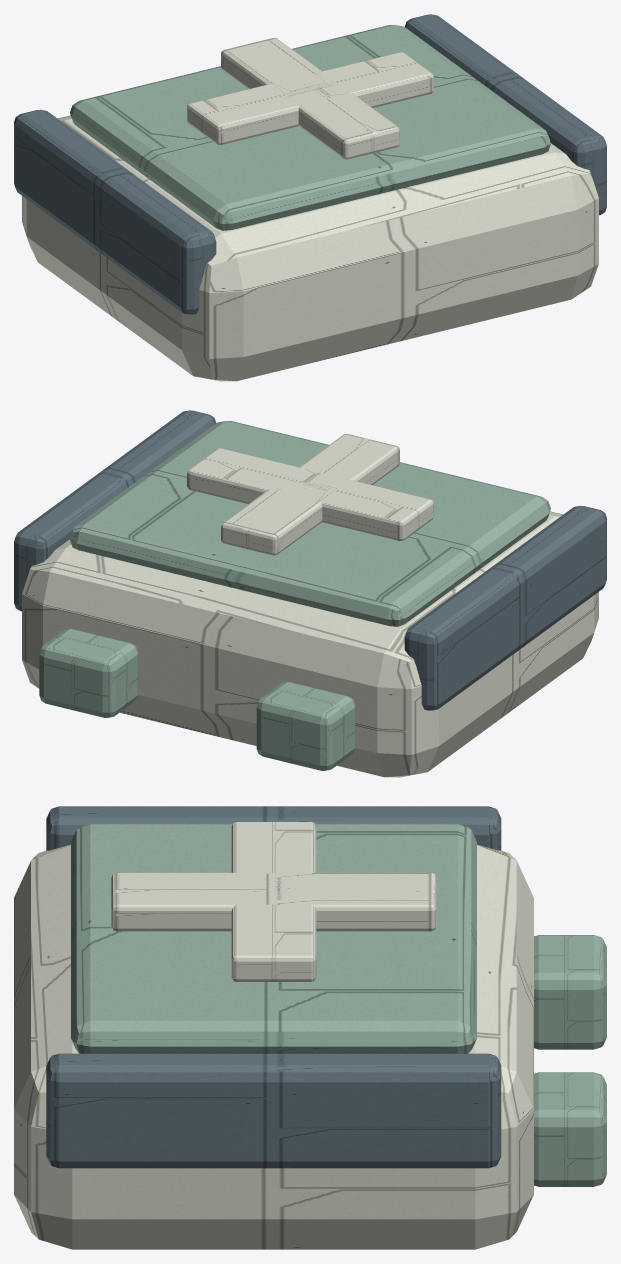
File: repair-high.glb
The picture shows the model from 3 angles, top to bottom: view 1: azimuth 30°, elevation 25°; view 2: azimuth 150°, elevation 25°; view 3: azimuth 270°, elevation 25°; orthographic projection. The views are drawn at different scales.
Parts seen in each view (by area): view 1: core-ceramic-surfaces, core-celadon-surfaces, core-titanium-surfaces; view 2: core-ceramic-surfaces, core-celadon-surfaces, core-titanium-surfaces; view 3: core-ceramic-surfaces, core-celadon-surfaces, core-titanium-surfaces.
Part boxes in pixels (x1,y1,x2,y2): core-ceramic-surfaces: (22, 38, 598, 381); core-celadon-surfaces: (70, 25, 550, 230); core-titanium-surfaces: (14, 14, 606, 314); core-ceramic-surfaces: (22, 434, 598, 777); core-celadon-surfaces: (39, 421, 550, 770); core-titanium-surfaces: (14, 410, 606, 710); core-ceramic-surfaces: (14, 822, 533, 1249); core-celadon-surfaces: (71, 823, 606, 1186); core-titanium-surfaces: (46, 806, 501, 1168).
Size of the model in its own units: 1.96 by 0.86 by 1.82.
Materials: 3 (3 with a texture image).
